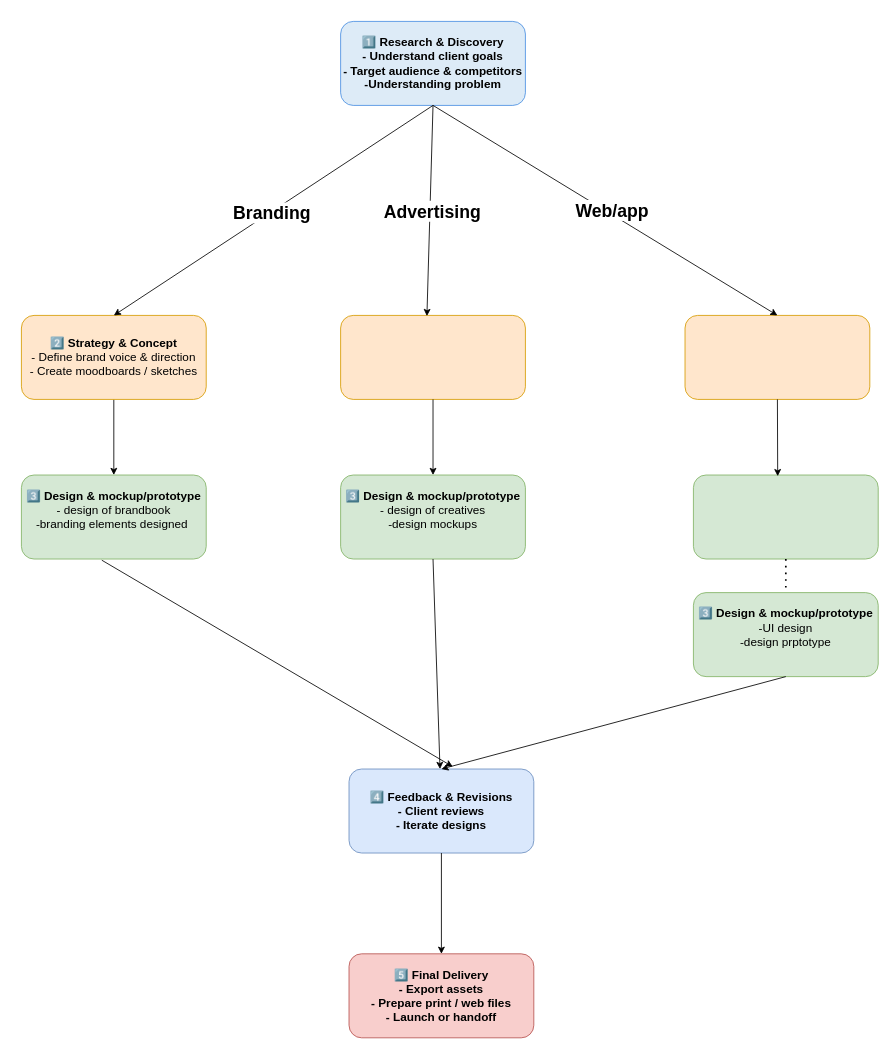
Some shapes in this 893 by 1053 pixel diagram are drawn without their labels. Each missing label, with the centre of its shape:
2️⃣ Strategy & Concept - Define Campaign goals - Create copy: the point at 432,357
2️⃣ Strategy & Concept - Define product structure: the point at 777,357
3️⃣ Design & mockup/prototype -diagrams -workflows -wireframing: the point at 785,516
